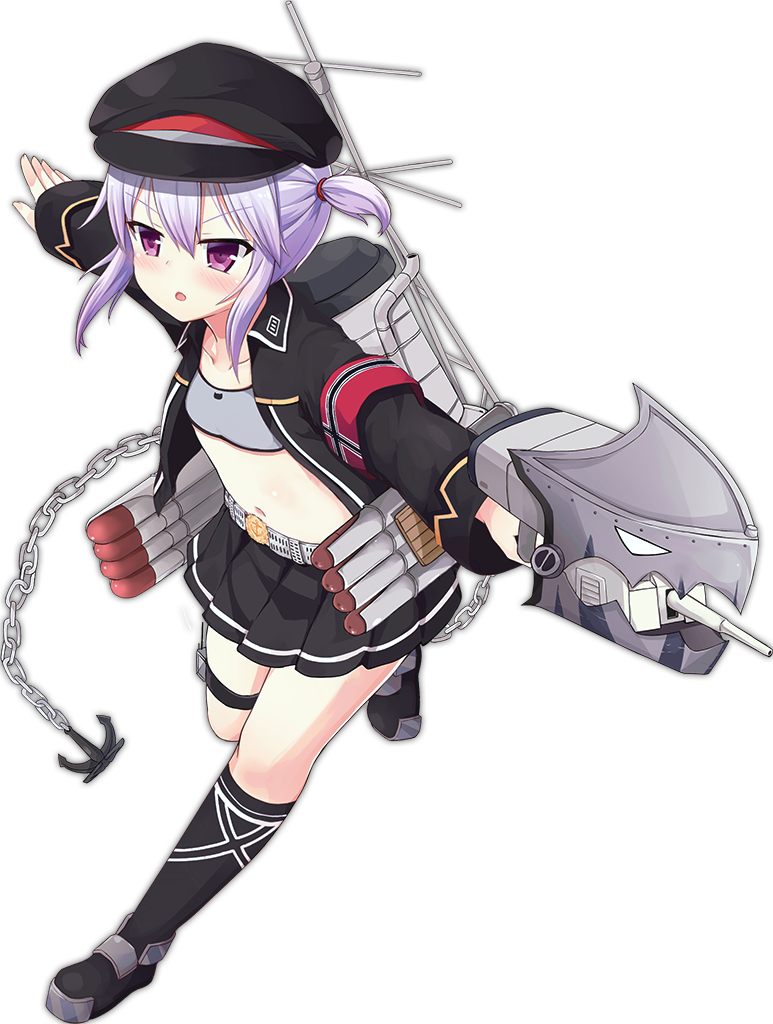person: (1, 1, 773, 978)
